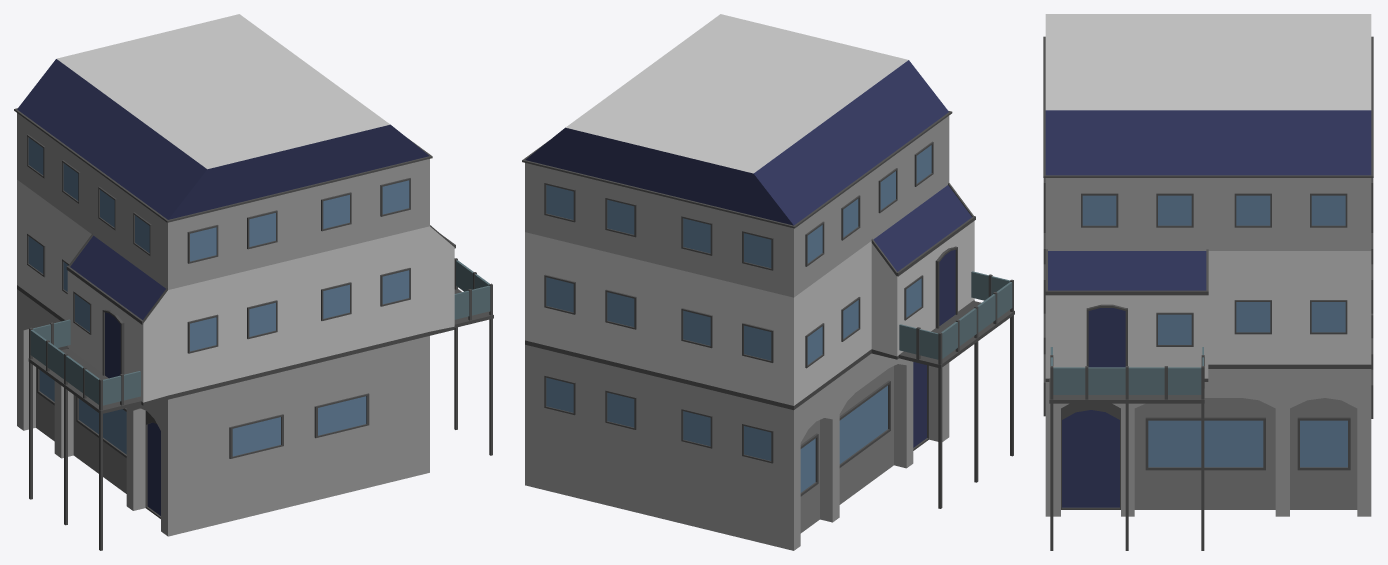
File: house.fbx
3 views of the same model, side by side, from view 1: azimuth 30°, elevation 25°; view 2: azimuth 150°, elevation 25°; view 3: azimuth 270°, elevation 25° (orthographic). The views are drawn at different scales.
Parts seen in each view (by area): view 1: Cube, Cube.002, Cube.001; view 2: Cube, Cube.001, Cube.002; view 3: Cube, Cube.002, Cube.001.
Part boxes in pixels (bbox=[...]): Cube: bbox=[17, 113, 493, 550]; Cube.002: bbox=[14, 14, 432, 222]; Cube.001: bbox=[17, 289, 429, 536]; Cube: bbox=[525, 116, 1014, 508]; Cube.001: bbox=[525, 344, 949, 550]; Cube.002: bbox=[522, 14, 952, 228]; Cube: bbox=[1043, 178, 1373, 550]; Cube.002: bbox=[1043, 14, 1373, 177]; Cube.001: bbox=[1043, 313, 1373, 516].
Size of the model in its own units: 300 by 261 by 203.
